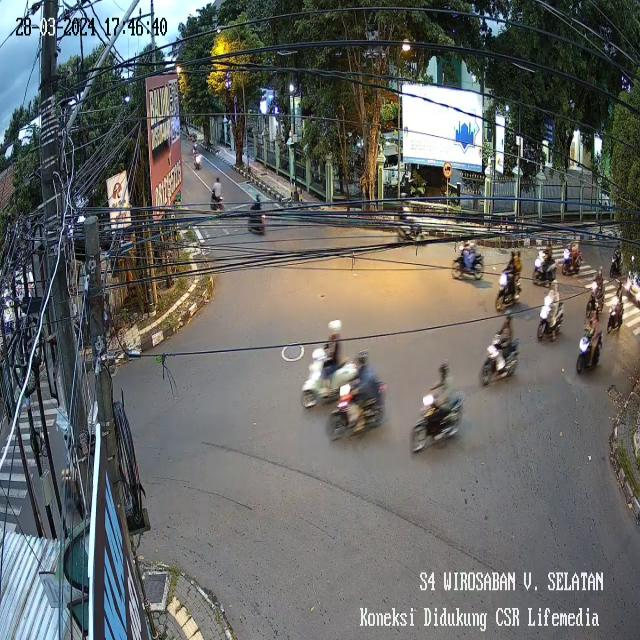motorcycle: (325, 349, 390, 450), (408, 356, 467, 458), (300, 320, 362, 416), (478, 310, 524, 390), (573, 310, 608, 377), (493, 247, 524, 315), (536, 280, 566, 344), (449, 235, 486, 286), (396, 202, 432, 252), (532, 239, 558, 291), (606, 284, 628, 340), (244, 191, 268, 239), (584, 264, 604, 319), (562, 235, 585, 278), (606, 236, 625, 278), (209, 176, 227, 214), (192, 145, 203, 174)
